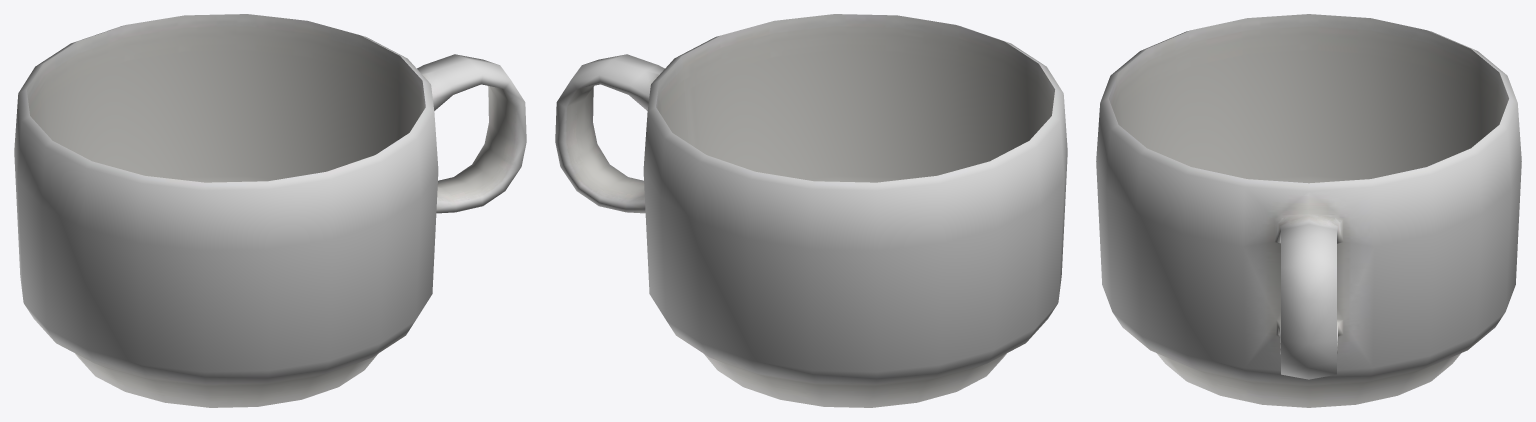
The model's file is SM_Coffee_Cup_01.glb.
The picture shows the model from 3 angles, left to right: view 1: azimuth 30°, elevation 25°; view 2: azimuth 150°, elevation 25°; view 3: azimuth 270°, elevation 25°; orthographic projection.
Visible parts, largest first — view 1: SM_Coffee_Cup_01; view 2: SM_Coffee_Cup_01; view 3: SM_Coffee_Cup_01.
Boxes of the visible parts, box(x1,y1,x2,y2) form: SM_Coffee_Cup_01: box(14, 14, 526, 407); SM_Coffee_Cup_01: box(555, 14, 1067, 407); SM_Coffee_Cup_01: box(1096, 14, 1521, 407).
Bounding box in the file's own units: 0.1067 × 0.0527 × 0.0828.
1 material, 1 textured.
